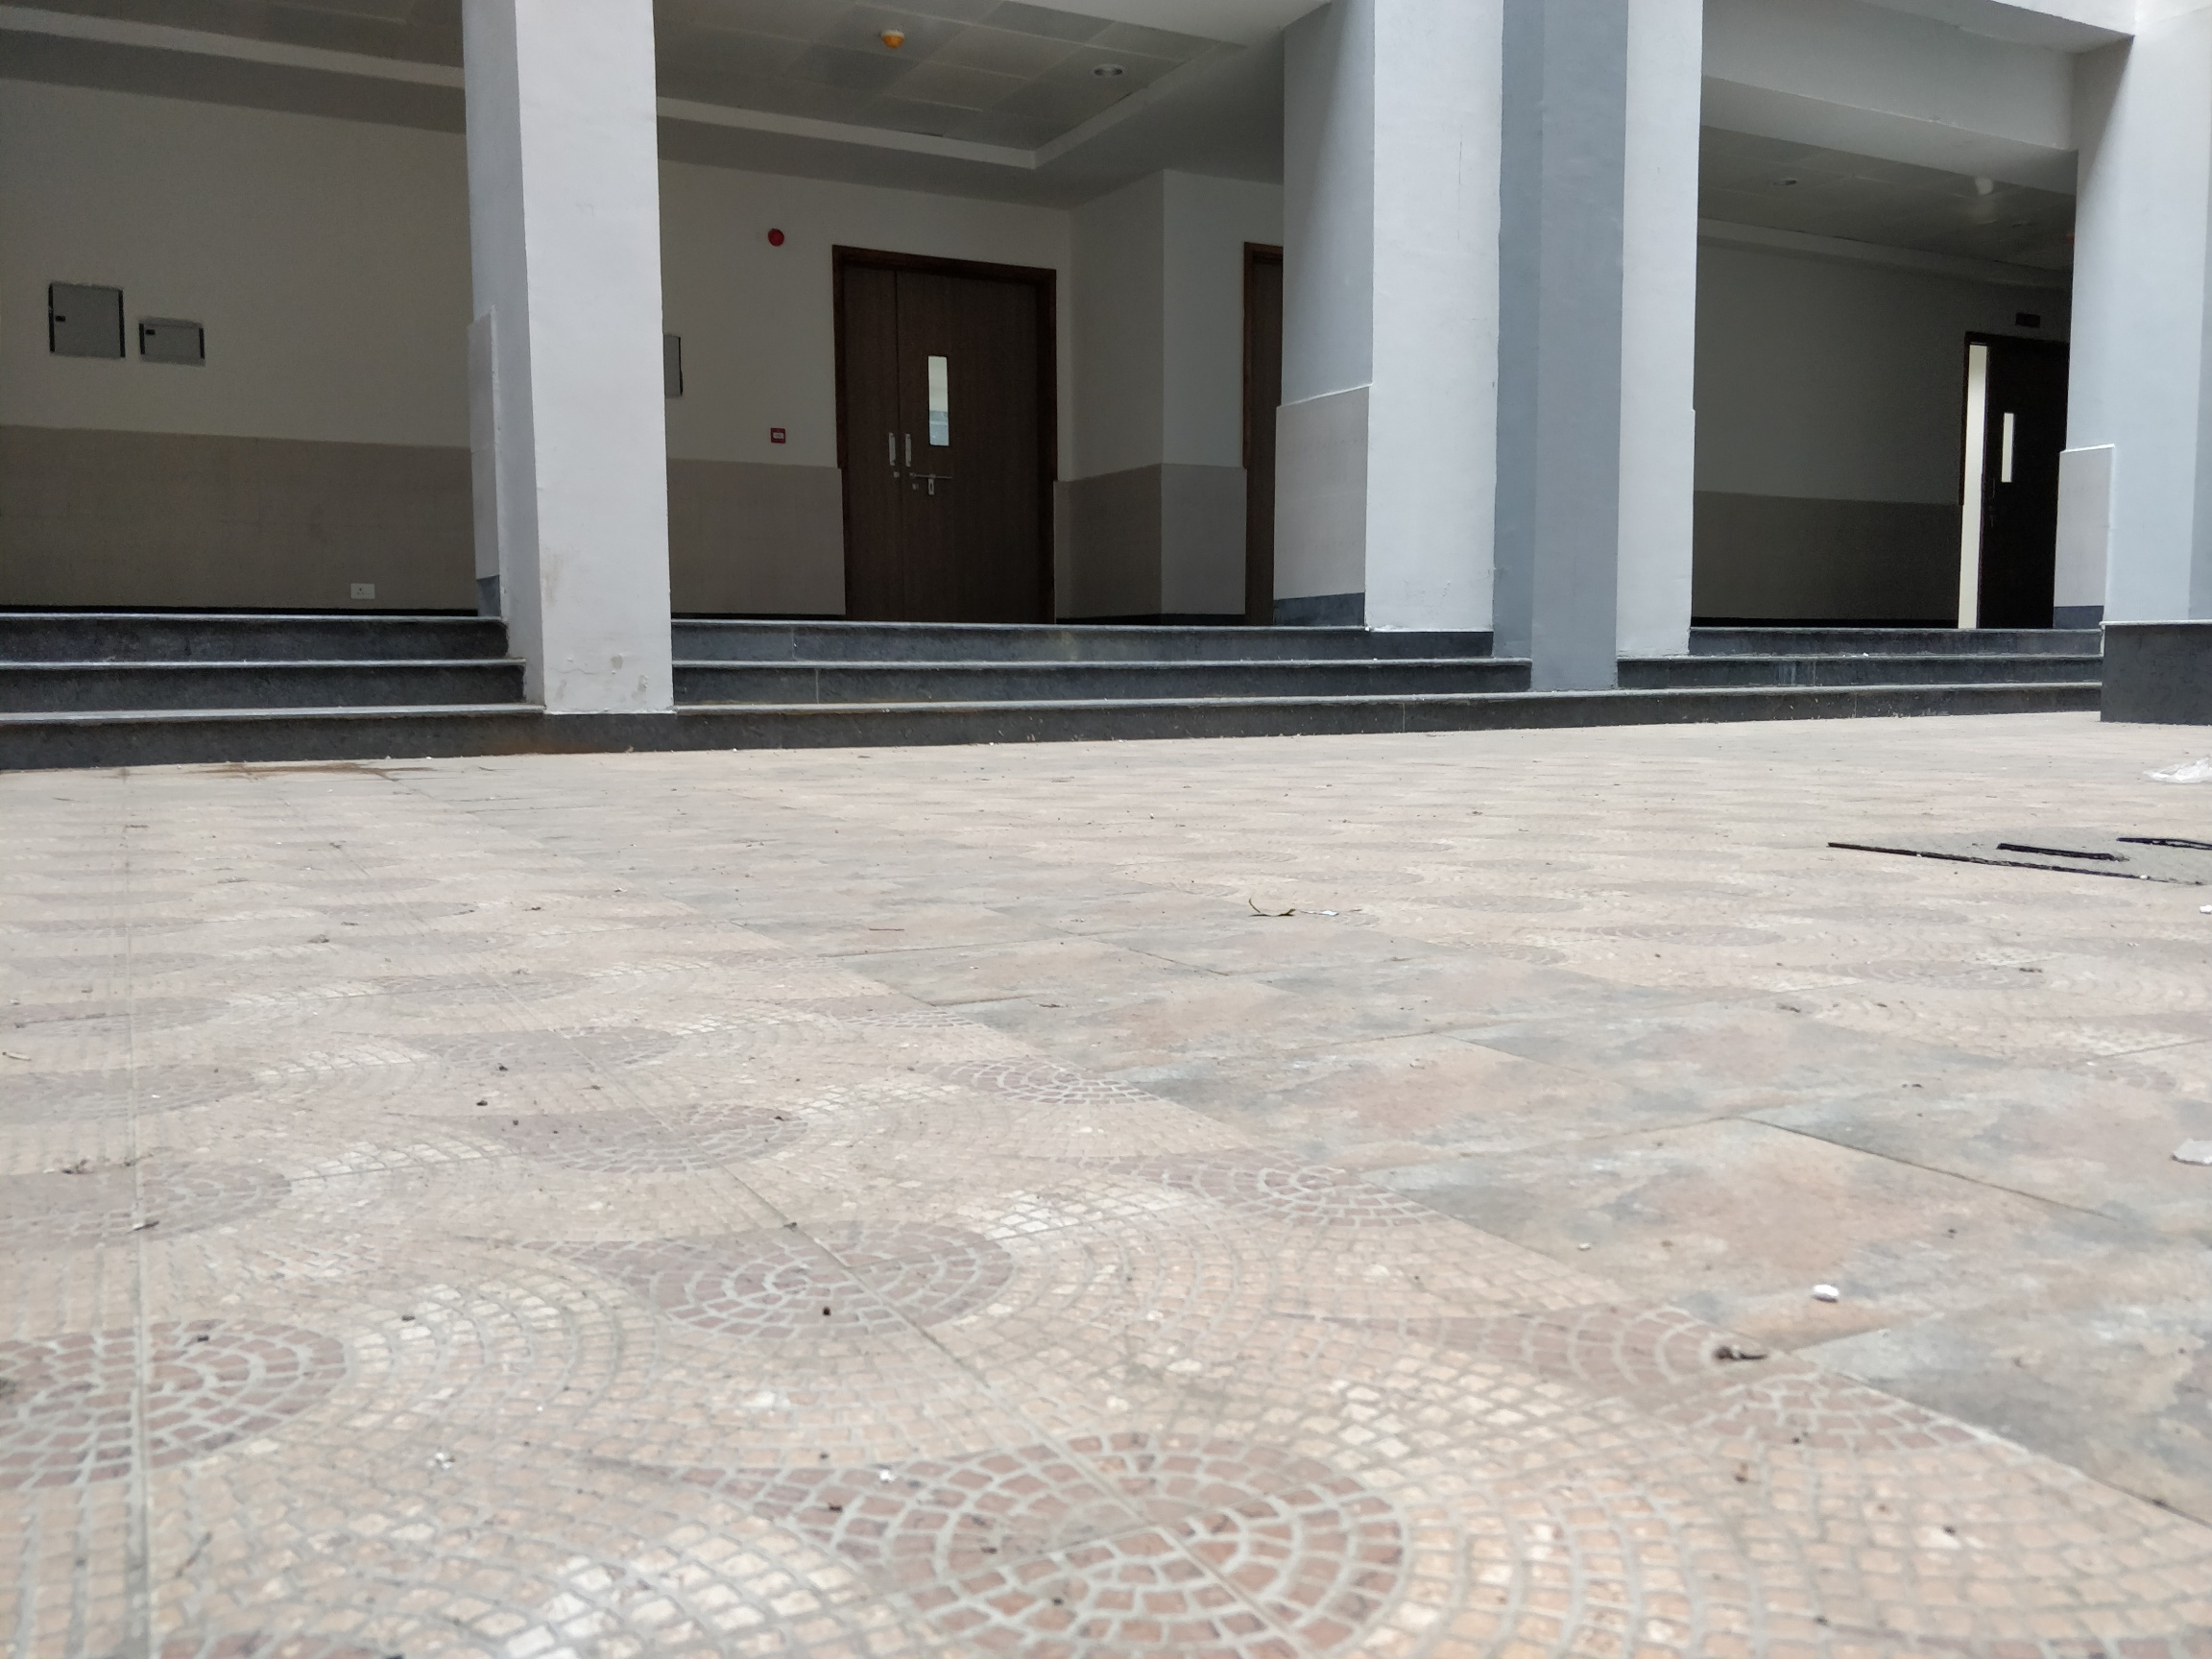stairs_up: (678, 620, 1534, 737), (3, 605, 533, 746), (1630, 626, 2101, 721)
